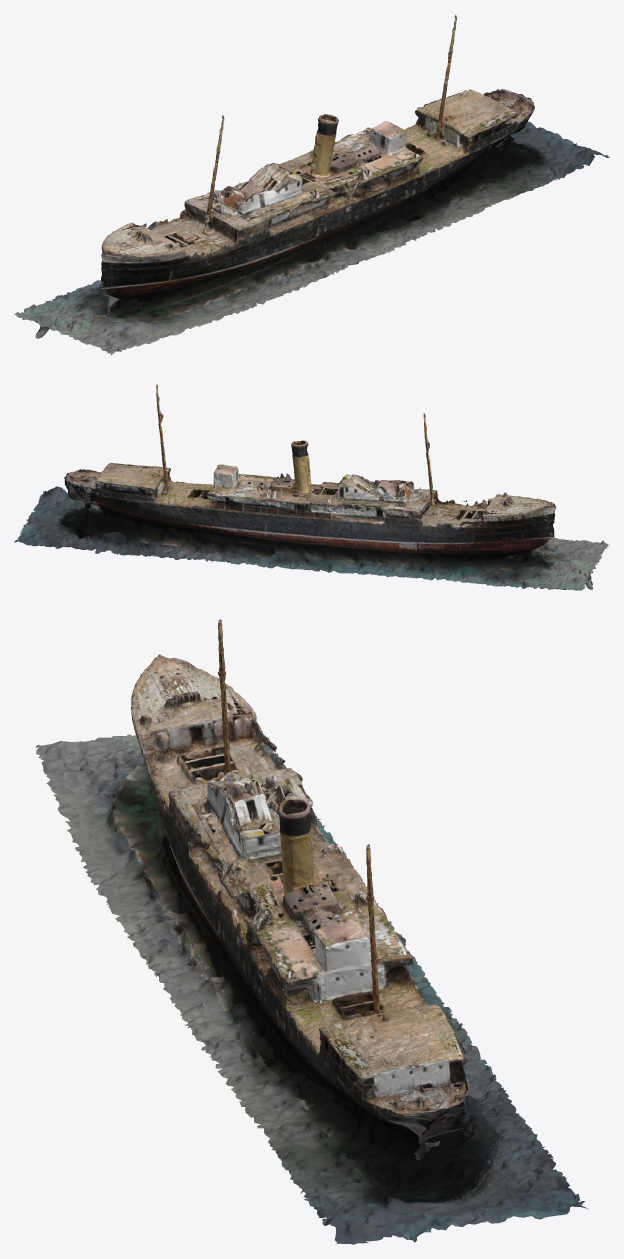
The model's file is asset.glb.
The picture shows the model from 3 angles, top to bottom: view 1: azimuth 30°, elevation 25°; view 2: azimuth 150°, elevation 25°; view 3: azimuth 270°, elevation 25°; orthographic projection. The views are drawn at different scales.
Visible parts, largest first — view 1: Mesh1_scene_mesh_textured:material_03_0 (×2), Mesh1_scene_mesh_textured:material_01_0 (×2), Mesh1_scene_mesh_textured:material_05_0; view 2: Mesh1_scene_mesh_textured:material_03_0 (×2), Mesh1_scene_mesh_textured:material_01_0 (×2), Mesh1_scene_mesh_textured:material_05_0; view 3: Mesh1_scene_mesh_textured:material_01_0 (×2), Mesh1_scene_mesh_textured:material_03_0 (×2), Mesh1_scene_mesh_textured:material_05_0.
Boxes of the visible parts, x1,y1,x2,y2 form: Mesh1_scene_mesh_textured:material_03_0 (×2): (45, 27, 609, 348); Mesh1_scene_mesh_textured:material_01_0 (×2): (21, 15, 606, 347); Mesh1_scene_mesh_textured:material_05_0: (14, 114, 407, 355); Mesh1_scene_mesh_textured:material_03_0 (×2): (14, 394, 591, 586); Mesh1_scene_mesh_textured:material_01_0 (×2): (17, 384, 602, 590); Mesh1_scene_mesh_textured:material_05_0: (122, 440, 609, 590); Mesh1_scene_mesh_textured:material_01_0 (×2): (50, 619, 584, 1242); Mesh1_scene_mesh_textured:material_03_0 (×2): (41, 654, 587, 1244); Mesh1_scene_mesh_textured:material_05_0: (35, 730, 525, 1122).
Size of the model in its own units: 85.15 by 24.15 by 39.56.
3 materials, 3 textured.
